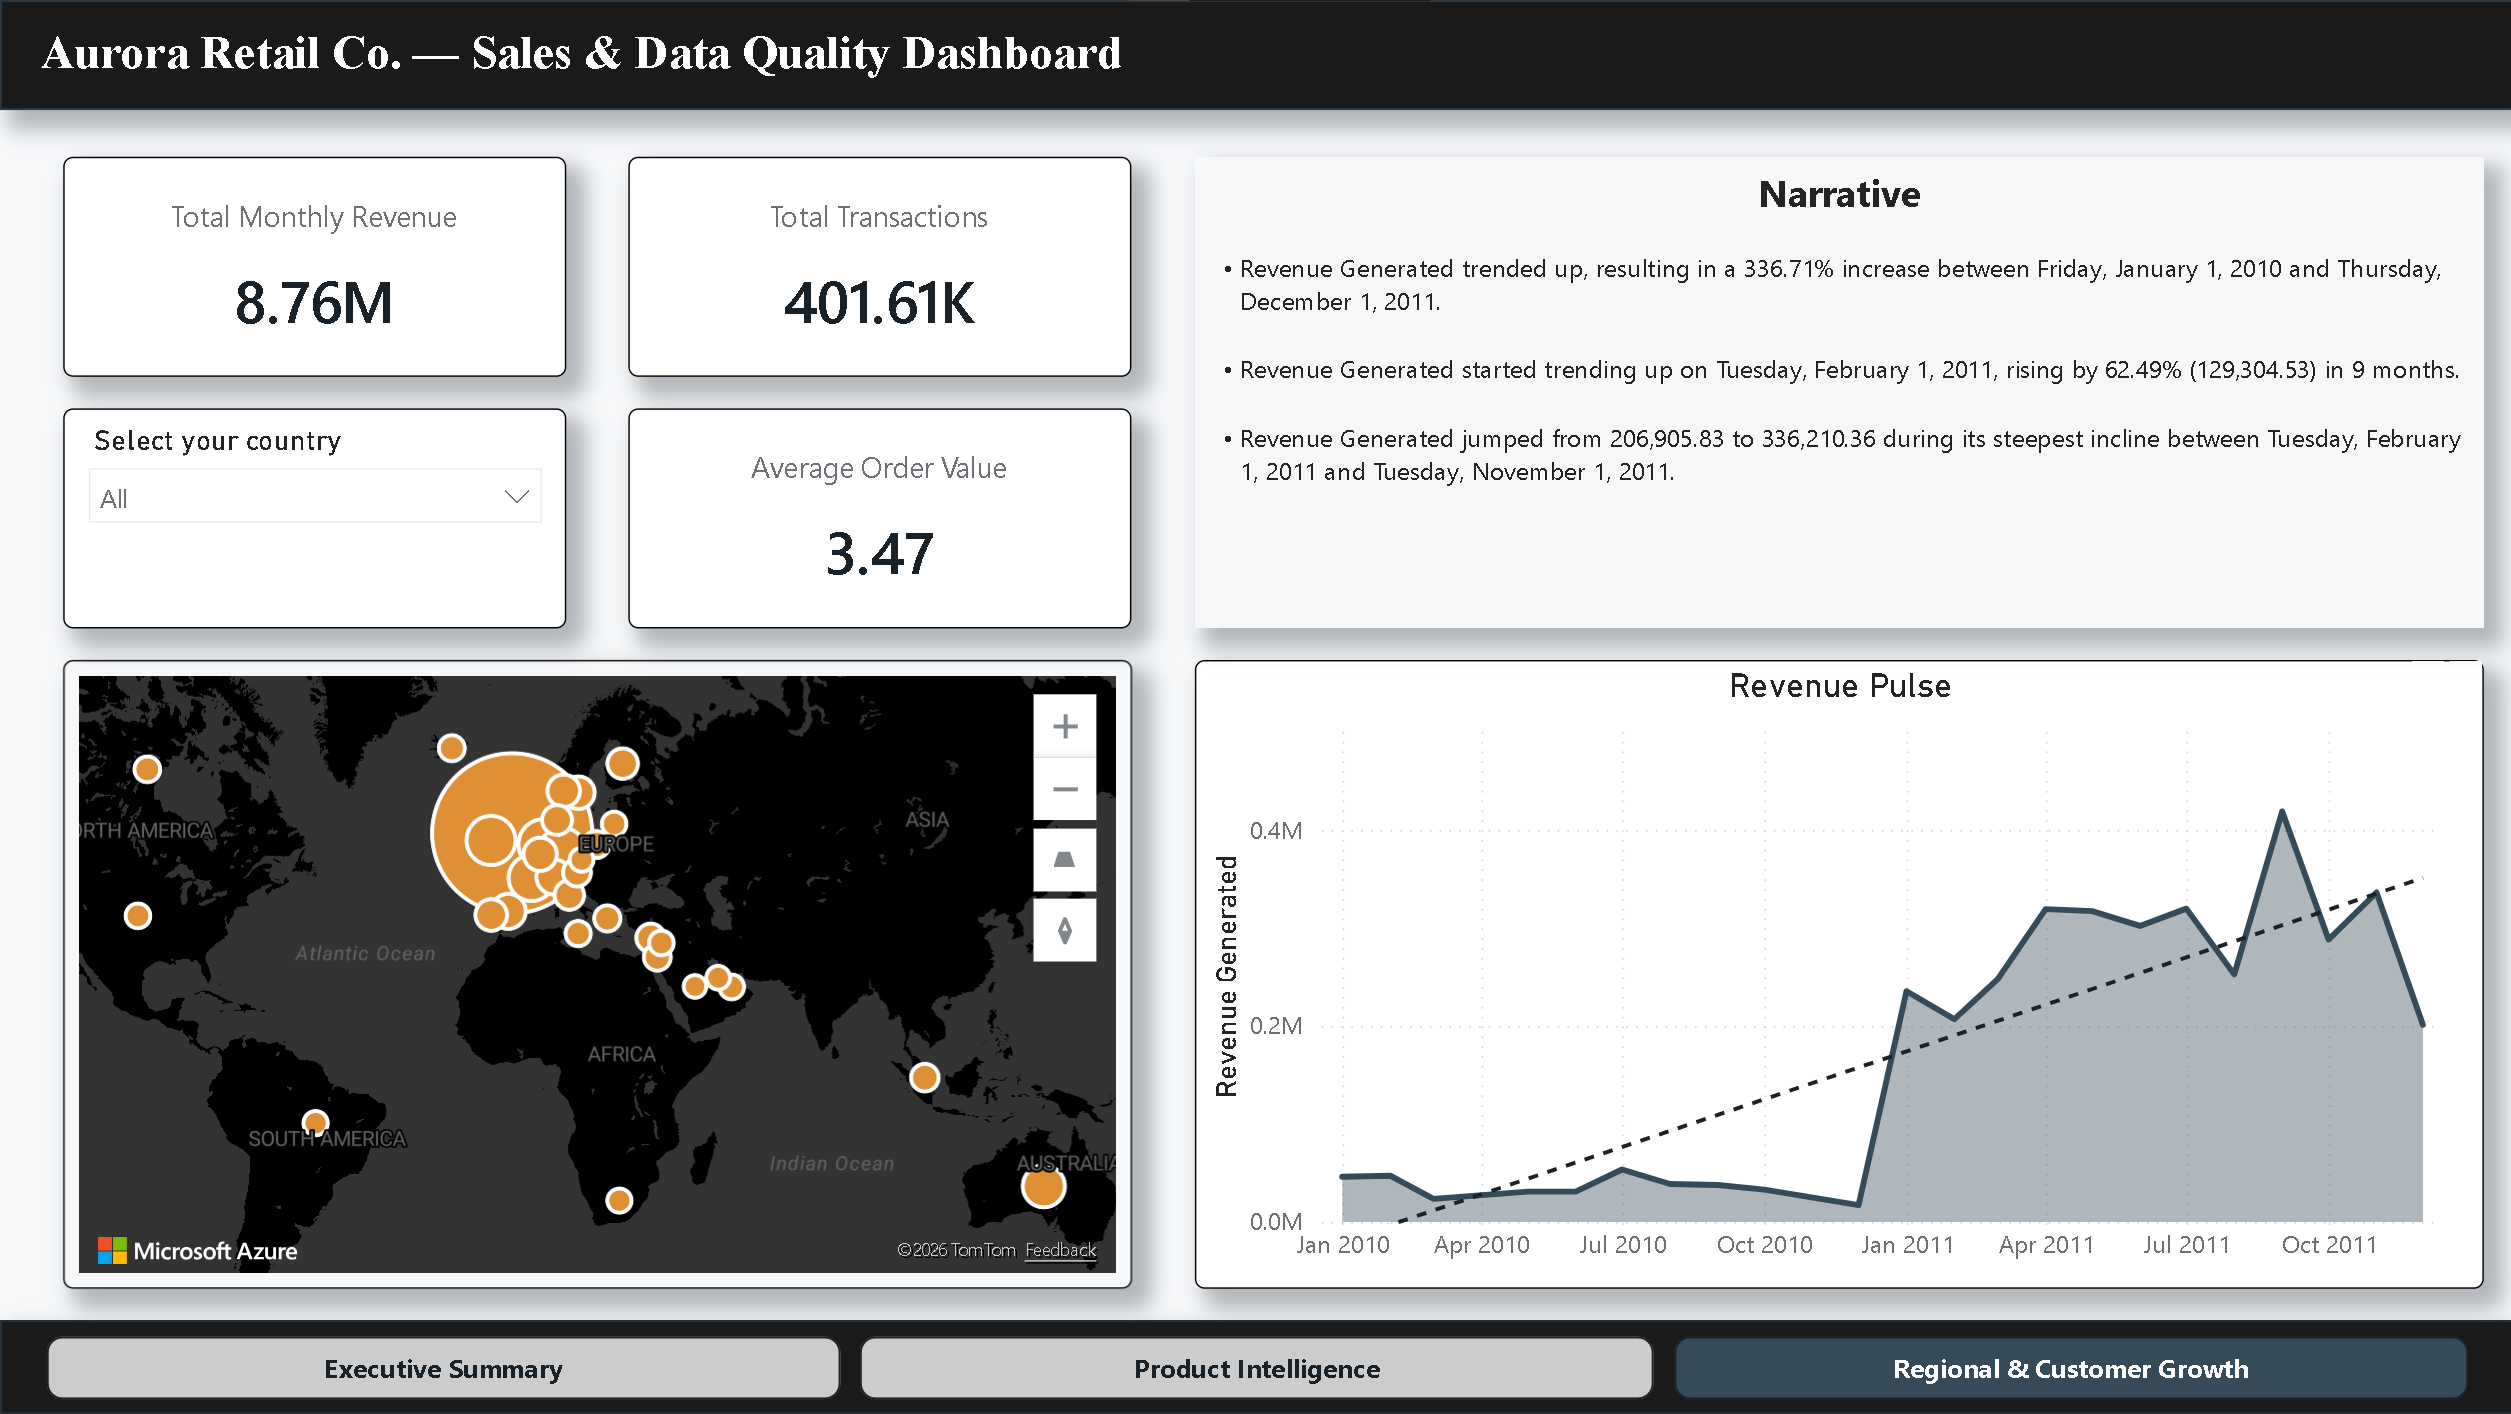

This screenshot's page, from the dashboard's own definition file:
{"tool":"powerbi","page":{"name":"Regional & Customer Growth","canvas":[1280,720],"ordinal":2},"visuals":[{"type":"group","id":"g1","title":"Group 1","box":[0,0,1280,720],"z":0},{"type":"shape","box":[0,672,1280,48],"z":0,"group":"g1"},{"type":"pageNavigator","box":[24,680,1232,32],"z":500},{"type":"shape","box":[0,0,1280,56],"z":1000,"group":"g1"},{"type":"azureMap","fields":{"Category":["vw_retail_base.country"],"Size":["Sum(vw_retail_base.revenue)"]},"box":[32,336,544,320],"z":1000},{"type":"textbox","box":[16,8,680,48],"z":2000,"group":"g1"},{"type":"areaChart","title":"Revenue Pulse","fields":{"Category":["vw_monthly_revenue_growth.year_month_date"],"Y":["Sum(vw_monthly_revenue_growth.monthly_revenue)"]},"box":[608,336,656,320],"z":2000},{"type":"cardVisual","fields":{"Data":["Sum(vw_monthly_revenue.monthly_revenue)"]},"box":[32,80,256,112],"z":3000},{"type":"cardVisual","fields":{"Data":["CountNonNull(vw_retail_base.invoice)"]},"box":[320,80,256,112],"z":4000},{"type":"cardVisual","fields":{"Data":["Avg(vw_retail_base.price)"]},"box":[320,208,256,112],"z":5000},{"type":"textbox","box":[608,80,656,240],"z":6000},{"type":"slicer","fields":{"Values":["vw_retail_base.country"]},"box":[32,208,256,112],"z":7000}]}

Visuals, with their boxes in screenshot pixels (x1, y1, x2, y2), scaled from the page's 1280x720 canvas onto the 2511x1414 screenshot:
"Group 1" group: 0 0 2510 1413
shape: 0 1320 2510 1413
pageNavigator: 47 1335 2464 1398
shape: 0 0 2510 110
azureMap - vw_retail_base.country x Sum(vw_retail_base.revenue): 63 660 1130 1288
textbox: 31 16 1365 110
"Revenue Pulse" areaChart: 1193 660 2480 1288
cardVisual - Sum(vw_monthly_revenue.monthly_revenue): 63 157 565 377
cardVisual - CountNonNull(vw_retail_base.invoice): 628 157 1130 377
cardVisual - Avg(vw_retail_base.price): 628 408 1130 628
textbox: 1193 157 2480 628
slicer - vw_retail_base.country: 63 408 565 628
